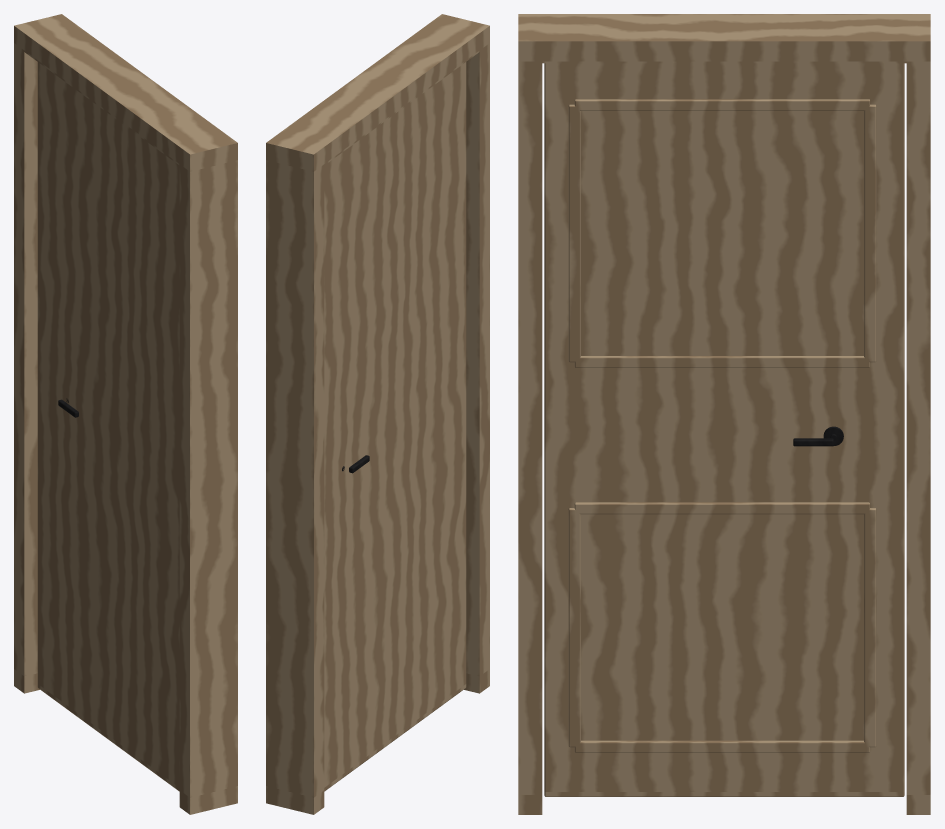
Rendered from ENV_DoorSet.fbx.
3 renders of one model, left to right at view 1: azimuth 30°, elevation 25°; view 2: azimuth 150°, elevation 25°; view 3: azimuth 270°, elevation 25°, orthographic. The views are drawn at different scales.
Parts seen in each view (by area): view 1: Door_Panel, Door_Frame; view 2: Door_Panel, Door_Frame; view 3: Door_Panel, Door_Frame.
Boxes of the visible parts, <box> form: Door_Panel: <box>37,62,179,791</box>; Door_Frame: <box>14,14,237,814</box>; Door_Panel: <box>324,62,466,791</box>; Door_Frame: <box>266,14,489,814</box>; Door_Panel: <box>544,63,904,796</box>; Door_Frame: <box>518,14,930,814</box>.
Bounding box in the file's own units: 16 × 211 × 102.
